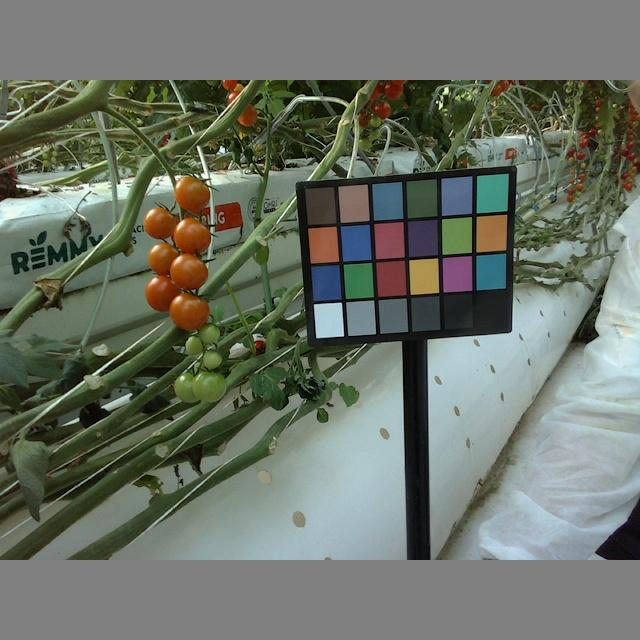green: (191, 370, 228, 402), (173, 371, 206, 406), (198, 349, 222, 370), (201, 323, 222, 345), (183, 336, 204, 357)
pink: (166, 288, 211, 330), (144, 274, 183, 312), (168, 254, 209, 290), (174, 173, 211, 212), (172, 218, 211, 255), (149, 241, 181, 274), (144, 206, 175, 240)
